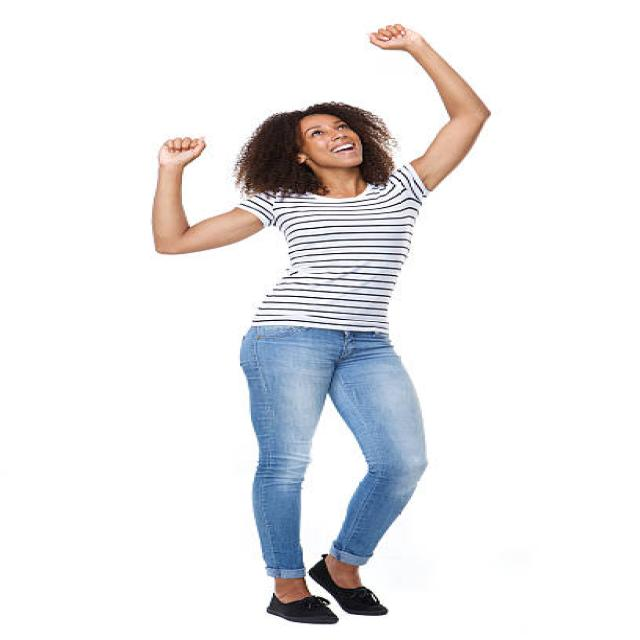Edited images: (131, 14, 519, 640)
